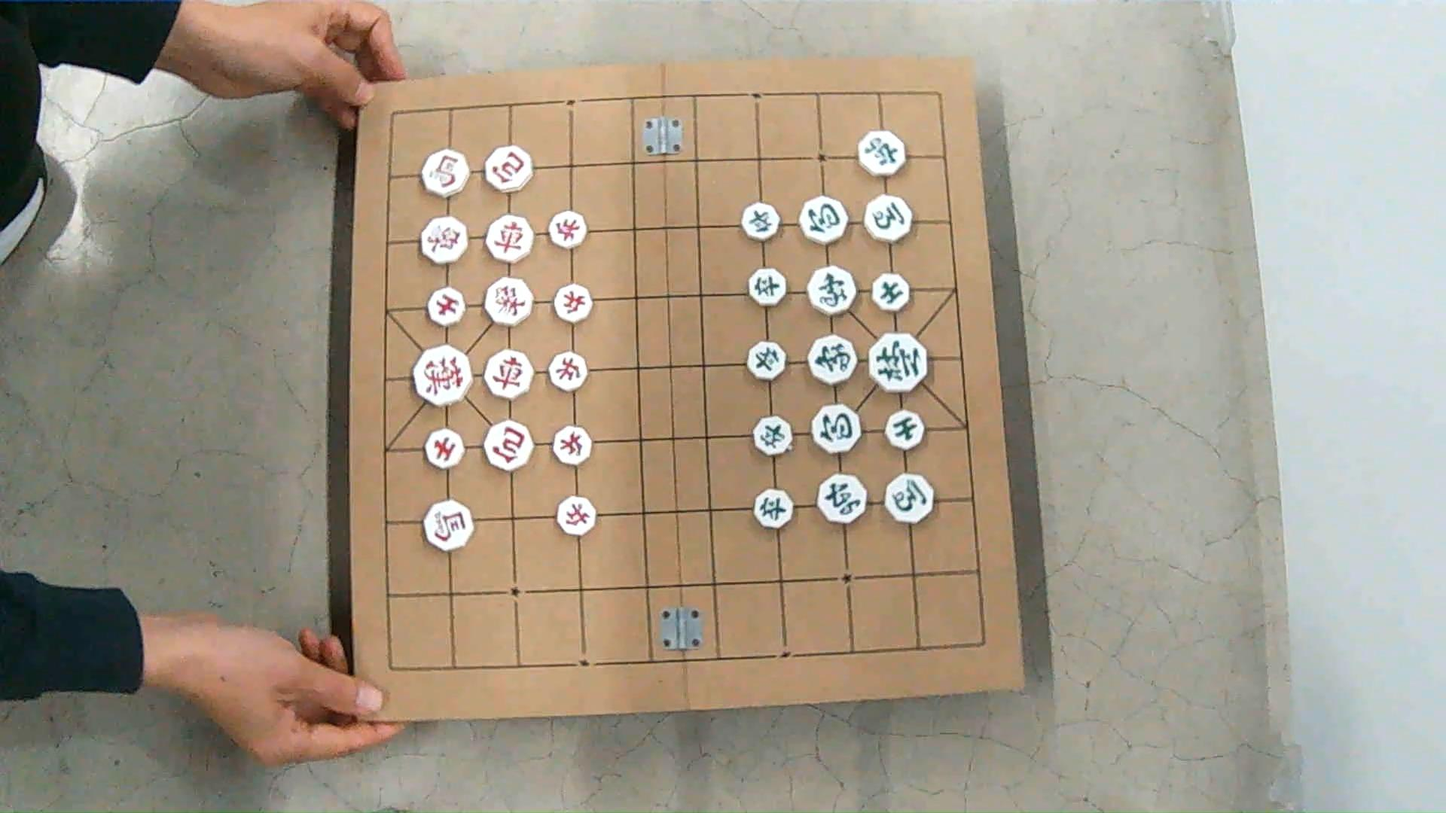cha_green: (817, 473, 866, 523), (859, 130, 905, 177)
cha_red: (484, 350, 532, 399), (486, 215, 532, 263)
jol_green: (753, 489, 793, 528), (753, 416, 792, 455), (741, 202, 779, 240), (748, 342, 786, 380), (749, 268, 786, 306)
jol_red: (556, 495, 596, 535), (548, 352, 587, 391), (553, 425, 591, 465), (548, 211, 587, 248), (554, 284, 591, 322)
ma_green: (863, 193, 914, 243), (886, 473, 933, 523)
ma_red: (423, 499, 474, 552), (422, 149, 468, 197)
po_green: (812, 404, 860, 453), (801, 196, 847, 244)
po_red: (484, 421, 532, 471), (484, 146, 532, 192)
sa_green: (871, 272, 911, 312), (886, 410, 923, 449)
sa_red: (427, 287, 465, 327), (425, 429, 463, 469)
sang_green: (808, 335, 857, 385), (807, 266, 856, 315)
sang_red: (419, 216, 468, 265), (484, 278, 532, 326)
wang_green: (868, 332, 927, 392)
wang_red: (412, 344, 473, 406)
